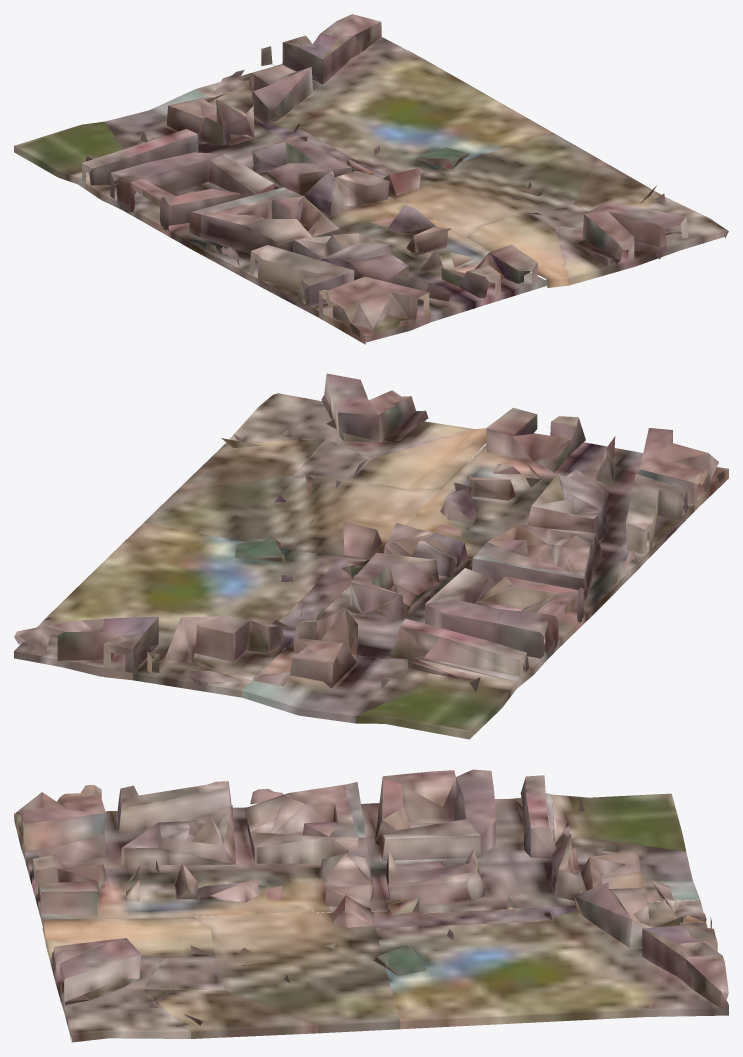
The picture shows the model from 3 angles, top to bottom: view 1: azimuth 30°, elevation 25°; view 2: azimuth 150°, elevation 25°; view 3: azimuth 270°, elevation 25°; orthographic projection. The views are drawn at different scales.
Parts seen in each view (by area): view 1: Mesh_0; view 2: Mesh_0; view 3: Mesh_0.
Boxes of the visible parts, bbox=[...] form: Mesh_0: bbox=[14, 14, 728, 344]; Mesh_0: bbox=[14, 373, 728, 739]; Mesh_0: bbox=[14, 769, 728, 1042].
Size of the model in its own units: 532 by 61.81 by 659.
1 material, 1 textured.
